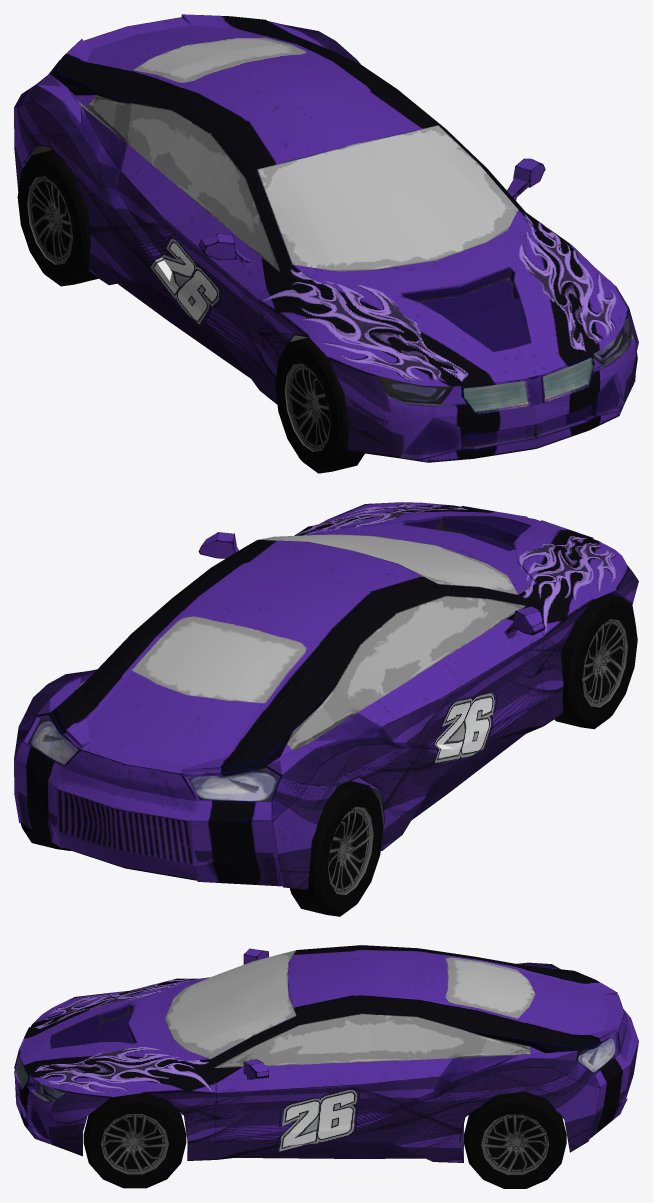
The model's file is Bmv.fbx.
3 views of the same model, one above another, from view 1: azimuth 30°, elevation 25°; view 2: azimuth 150°, elevation 25°; view 3: azimuth 270°, elevation 25° (orthographic). The views are drawn at different scales.
Visible parts, largest first — view 1: Bmw, Bmw_Teker; view 2: Bmw, Bmw_Teker; view 3: Bmw, Bmw_Teker.
Boxes of the visible parts, left/top/right/bottom form: Bmw: left=14, top=14, right=638, bottom=462; Bmw_Teker: left=17, top=150, right=637, bottom=473; Bmw: left=14, top=502, right=638, bottom=890; Bmw_Teker: left=20, top=594, right=637, bottom=916; Bmw: left=14, top=945, right=638, bottom=1162; Bmw_Teker: left=83, top=1092, right=566, bottom=1188.
Bounding box in the file's own units: 194 × 121 × 412.
2 materials, 2 textured.
